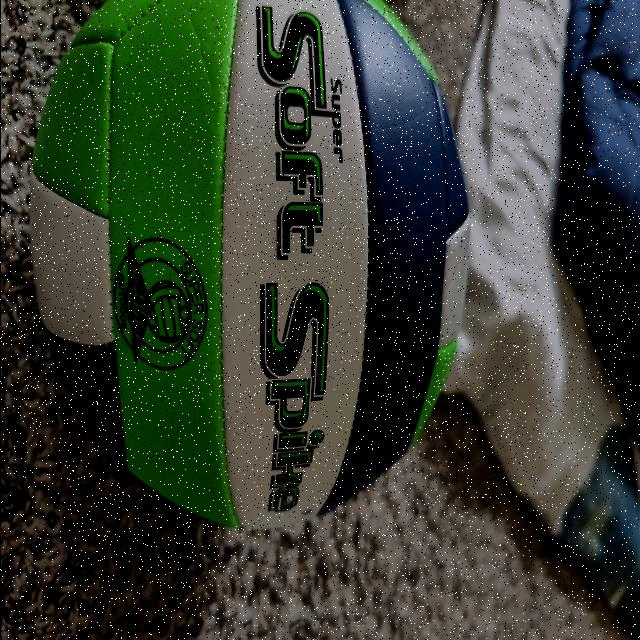ball: (39, 0, 463, 529)
